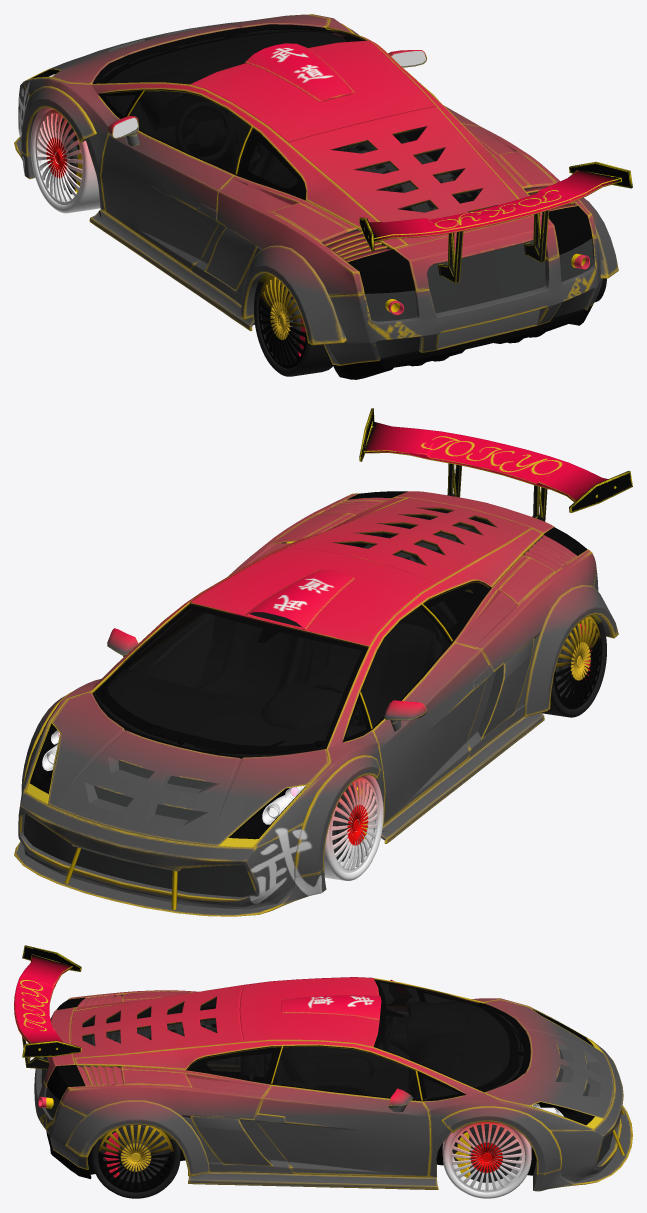
File: free_lamborghini_gallardo.glb
3 views of the same model, one above another, from view 1: azimuth 30°, elevation 25°; view 2: azimuth 150°, elevation 25°; view 3: azimuth 270°, elevation 25° (orthographic). The views are drawn at different scales.
Parts seen in each view (by area): view 1: Main Body_12, Interior_13, windows_24, Vents_1, Wing_4, windshield_25, Tail lights glass_27, Front Rims_22, Bottom Plate_18, Back Rims_29, Engine Window_3, Plastics_14 (+6 smaller); view 2: Main Body_12, windshield_25, Interior_13, Wing_4, windows_24, Vents_1, Window Plastics_23, Front Rims_22, Back Rims_29, Plastics_14, Engine Window_3, Headlights Base_11 (+6 smaller); view 3: Main Body_12, Interior_13, windshield_25, windows_24, Wing_4, Front Rims_22, Back Rims_29, Window Plastics_23, Plastics_14, front Brakes_16, Back Brakes_17, Engine Window_3 (+9 smaller).
Part boxes in pixels (bbox=[...]): Main Body_12: bbox=[14, 14, 618, 365]; Interior_13: bbox=[98, 29, 345, 188]; windows_24: bbox=[100, 40, 352, 198]; Vents_1: bbox=[365, 238, 593, 358]; Wing_4: bbox=[359, 161, 632, 283]; windshield_25: bbox=[96, 29, 366, 84]; Tail lights glass_27: bbox=[348, 206, 592, 293]; Front Rims_22: bbox=[35, 109, 83, 204]; Bottom Plate_18: bbox=[99, 211, 593, 379]; Back Rims_29: bbox=[258, 275, 306, 368]; Engine Window_3: bbox=[330, 126, 497, 216]; Plastics_14: bbox=[92, 24, 491, 200]; Main Body_12: bbox=[14, 491, 618, 916]; windshield_25: bbox=[93, 603, 368, 756]; Interior_13: bbox=[95, 601, 457, 756]; Wing_4: bbox=[359, 408, 632, 521]; windows_24: bbox=[128, 581, 490, 740]; Vents_1: bbox=[23, 612, 503, 896]; Window Plastics_23: bbox=[96, 583, 488, 754]; Front Rims_22: bbox=[330, 777, 378, 872]; Back Rims_29: bbox=[553, 616, 601, 709]; Plastics_14: bbox=[92, 580, 491, 758]; Engine Window_3: bbox=[331, 507, 497, 565]; Headlights Base_11: bbox=[29, 722, 306, 839]; Main Body_12: bbox=[34, 977, 632, 1191]; Interior_13: bbox=[240, 1001, 523, 1127]; windshield_25: bbox=[373, 979, 523, 1092]; windows_24: bbox=[187, 983, 463, 1100]; Wing_4: bbox=[14, 945, 81, 1069]; Front Rims_22: bbox=[449, 1122, 525, 1192]; Back Rims_29: bbox=[98, 1125, 173, 1192]; Window Plastics_23: bbox=[188, 980, 518, 1099]; Plastics_14: bbox=[186, 1002, 530, 1101]; front Brakes_16: bbox=[452, 1124, 521, 1182]; Back Brakes_17: bbox=[101, 1067, 170, 1182]; Engine Window_3: bbox=[82, 996, 217, 1045].
Size of the model in its own units: 1.4 by 0.8005 by 3.04.
Materials: 32 (24 with a texture image).
